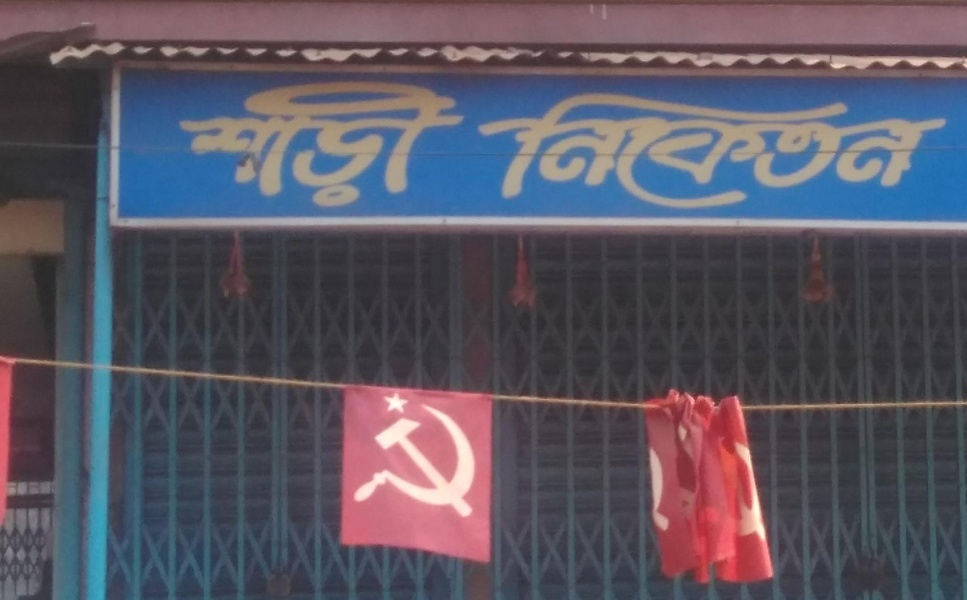text: (353, 389, 368, 559), (369, 389, 384, 559), (385, 389, 400, 559), (401, 389, 416, 559), (417, 389, 432, 559), (433, 389, 448, 559), (449, 389, 464, 559), (465, 389, 480, 559), (177, 72, 192, 216), (193, 72, 208, 216), (209, 72, 224, 216), (225, 72, 240, 216), (241, 72, 256, 216), (257, 72, 272, 216), (273, 72, 288, 216), (289, 72, 304, 216), (305, 72, 320, 216), (321, 72, 336, 216), (337, 72, 352, 216), (353, 72, 368, 216), (369, 72, 384, 216), (385, 72, 400, 216), (401, 72, 416, 216), (417, 72, 432, 216), (433, 72, 448, 216), (449, 72, 464, 216), (481, 85, 496, 214), (497, 85, 512, 214), (513, 85, 528, 214), (529, 85, 544, 214), (545, 85, 560, 214), (561, 85, 576, 214), (577, 85, 592, 214), (593, 85, 608, 214), (609, 85, 624, 214), (625, 85, 640, 214), (641, 85, 656, 214), (657, 85, 672, 214), (673, 85, 688, 214), (689, 85, 704, 214), (705, 85, 720, 214), (721, 85, 736, 214), (737, 85, 752, 214), (753, 85, 768, 214), (769, 85, 784, 214), (785, 85, 800, 214), (801, 85, 816, 214), (817, 85, 832, 214), (833, 85, 848, 214), (849, 85, 864, 214), (865, 85, 880, 214), (881, 85, 896, 214), (897, 85, 912, 214), (913, 85, 928, 214), (929, 85, 944, 214), (465, 72, 476, 216), (168, 72, 176, 216), (481, 389, 486, 559), (945, 85, 949, 214), (351, 389, 352, 559)
